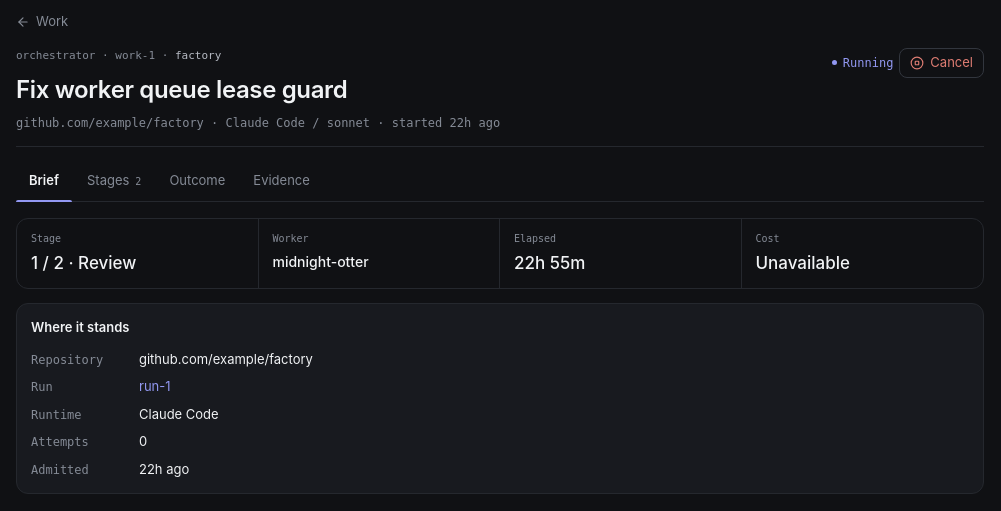
Work detail › says nothing was verified when no code stage ran
This screenshot has width=1001, height=511.
Click the tab "Outcome".
click(197, 181)  # box [156,161,238,200]
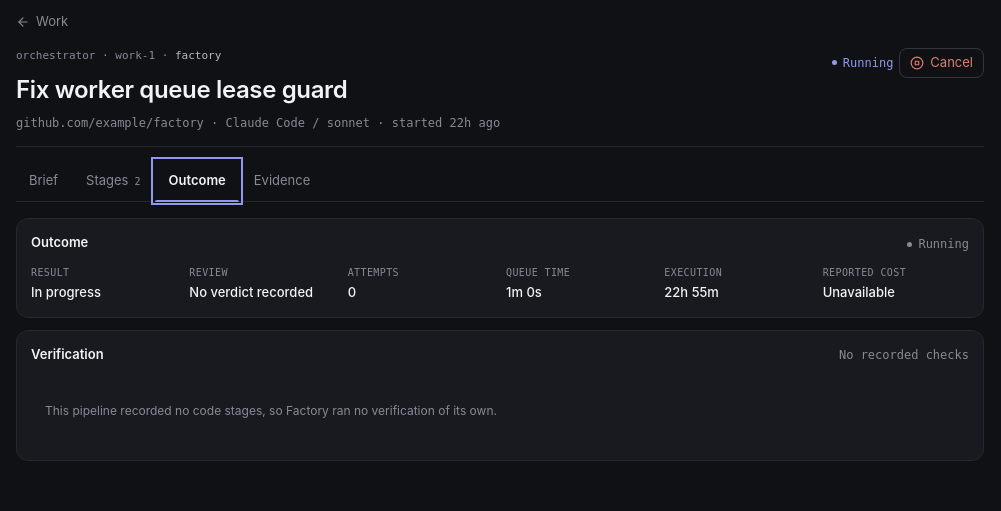
Expected: the text "recorded no code stages" is shown, [45,403,497,418]
